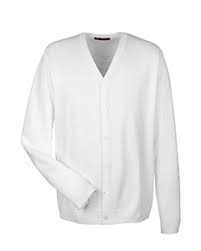S_cardigan sweater: (21, 27, 193, 239)
